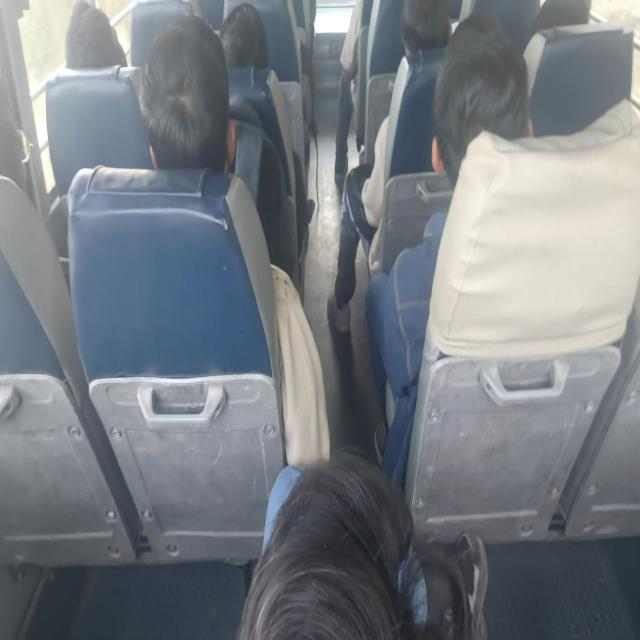person: (260, 432, 486, 640), (435, 0, 530, 215), (142, 30, 236, 181), (61, 0, 130, 71), (0, 92, 40, 208), (216, 0, 275, 77), (522, 0, 612, 40), (389, 0, 432, 65)
